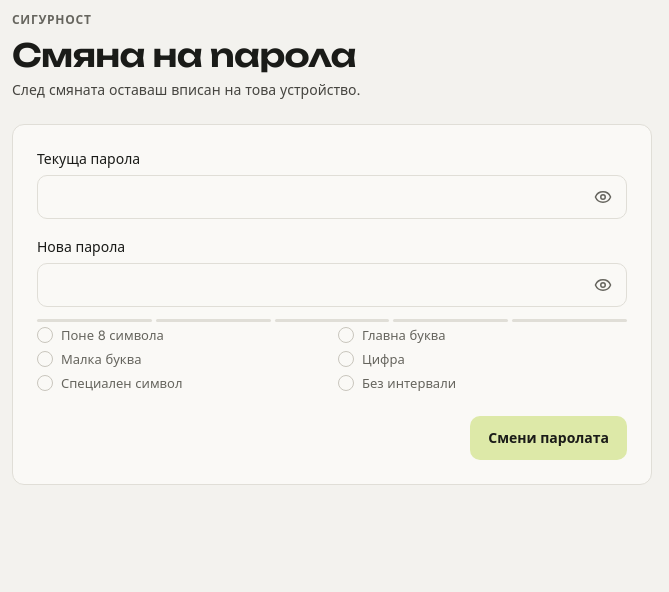
Scenario: ChangePasswordPage › locks the button after too many attempts (429)
Type "Parola1!" into the password field labelled "Текуща парола" at (332, 197), box [37,175,627,219]
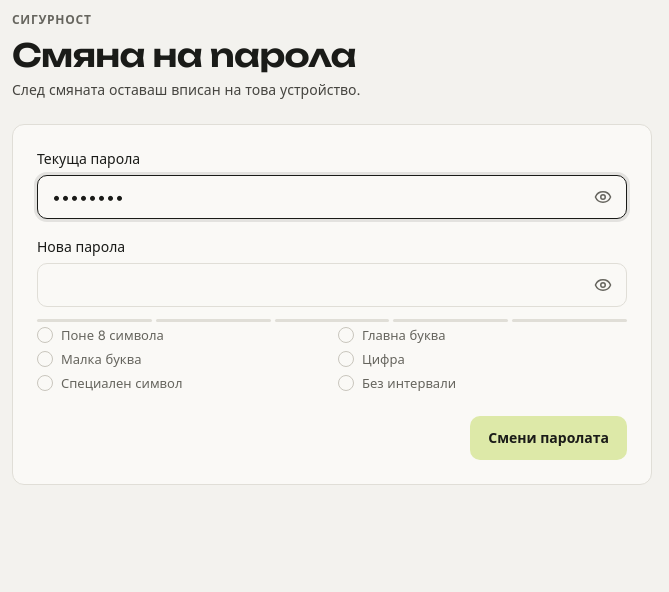
Type "Parola2!" into the password field labelled "Нова парола" at (332, 285), box [37,263,627,307]
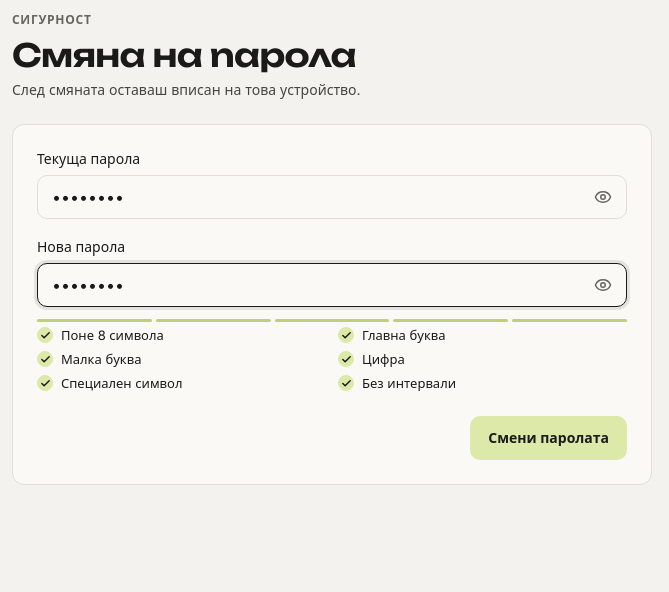
Click the button "Смени паролата" at (549, 438), box [470,416,627,460]
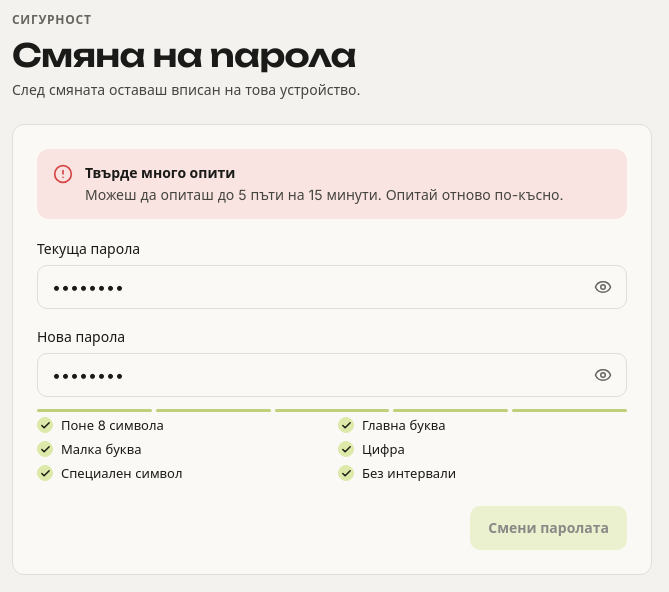
Now the text "Твърде много опити" is shown, box [85,164,235,181]
Now the button "Смени паролата" is disabled, box [470,506,627,550]
